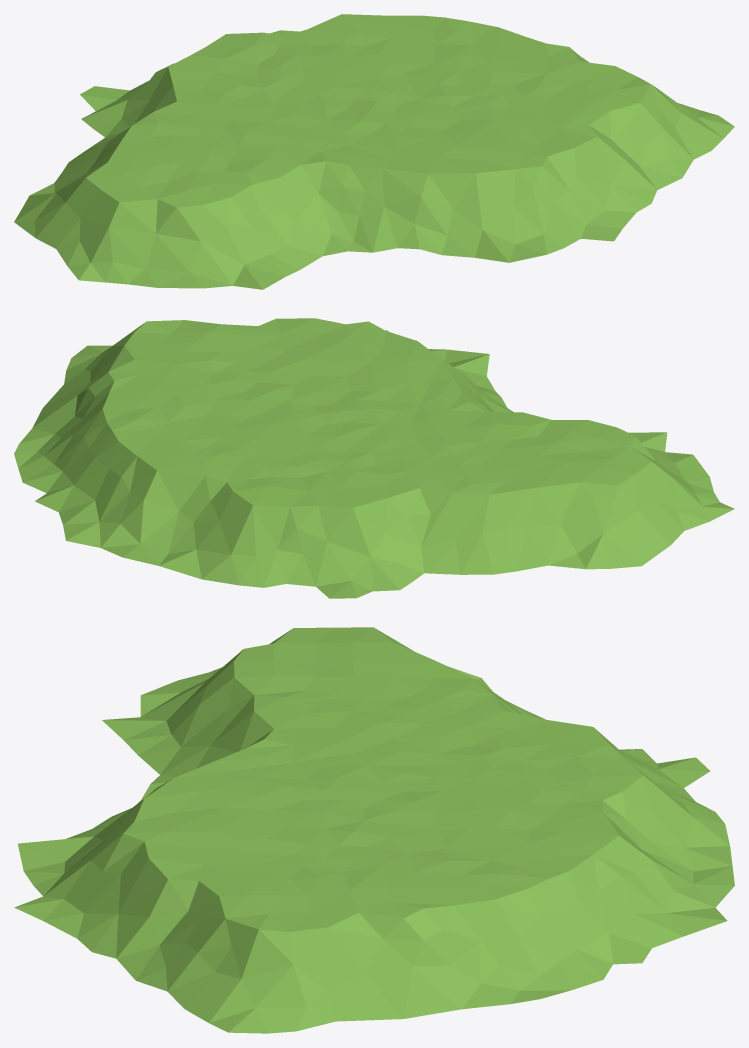
File: MT_Mountain_L_b_04.fbx
The picture shows the model from 3 angles, top to bottom: view 1: azimuth 30°, elevation 25°; view 2: azimuth 150°, elevation 25°; view 3: azimuth 270°, elevation 25°; orthographic projection. The views are drawn at different scales.
Visible parts, largest first — view 1: MT_Mountain_L_b_04; view 2: MT_Mountain_L_b_04; view 3: MT_Mountain_L_b_04.
Part boxes in pixels (x1,y1,x2,y2): MT_Mountain_L_b_04: (14, 14, 734, 289); MT_Mountain_L_b_04: (14, 318, 734, 598); MT_Mountain_L_b_04: (14, 627, 734, 1033).
Size of the model in its own units: 7489 by 589 by 5959.
